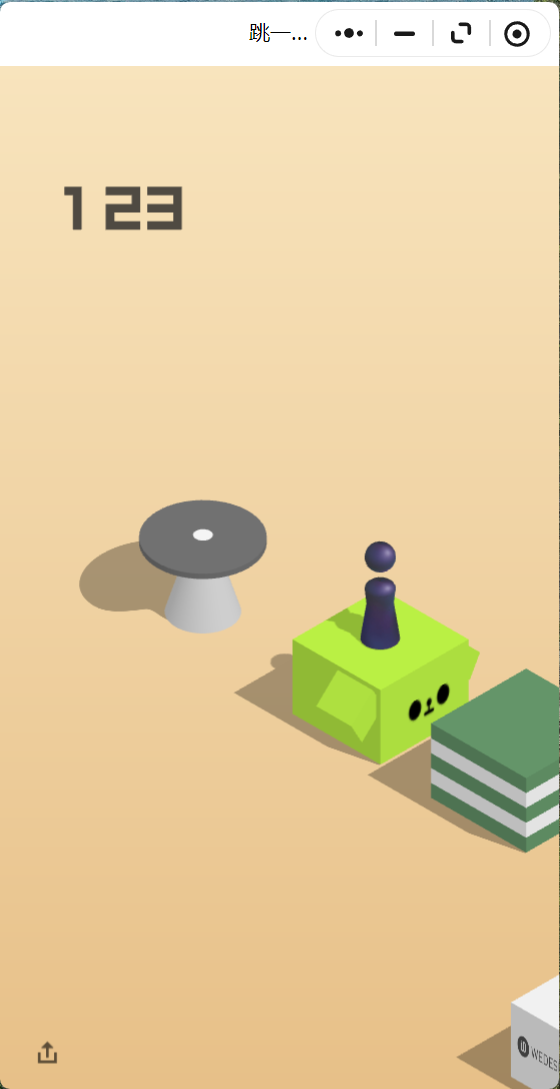piece: (365, 541, 396, 645)
target: (139, 500, 268, 572)
